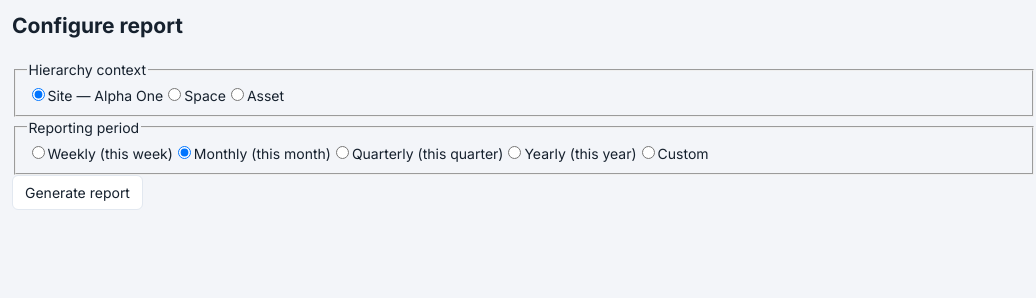
Test: SitePerformanceReportConfig (EMS-REQ-111) › Custom period requires both dates, in order, before Generate is enabled
Check: the button with test id "report-config-generate" is shown, box [12,175,143,210]
Click the radio button labelled "Custom" at coordinates (648, 152), box [642,146,655,159]
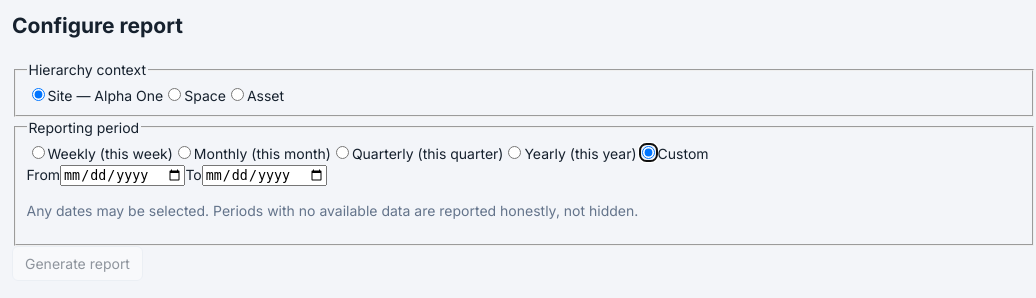
Check: the button with test id "report-config-generate" is disabled, box [12,246,143,281]
Type "2026-09-01" into the date field with test id "report-config-custom-from" at coordinates (123, 175), box [60,165,185,186]
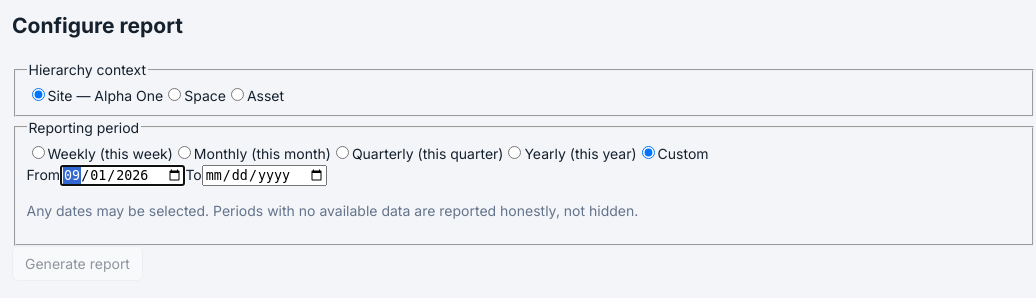
Type "2026-09-10" into the date field with test id "report-config-custom-to" at coordinates (264, 175), box [202,165,327,186]
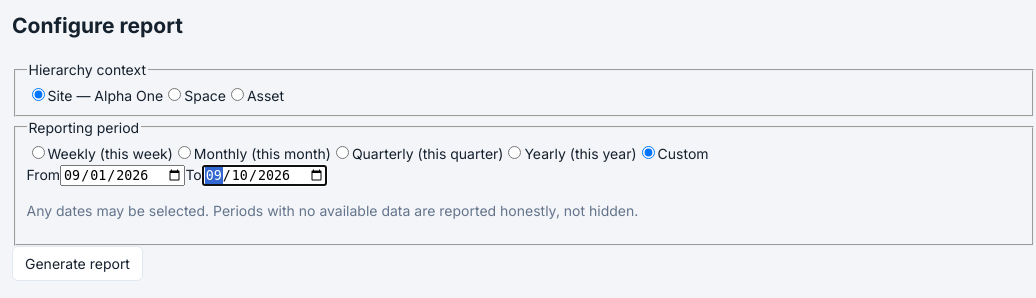
Check: the button with test id "report-config-generate" is enabled, box [12,246,143,281]
